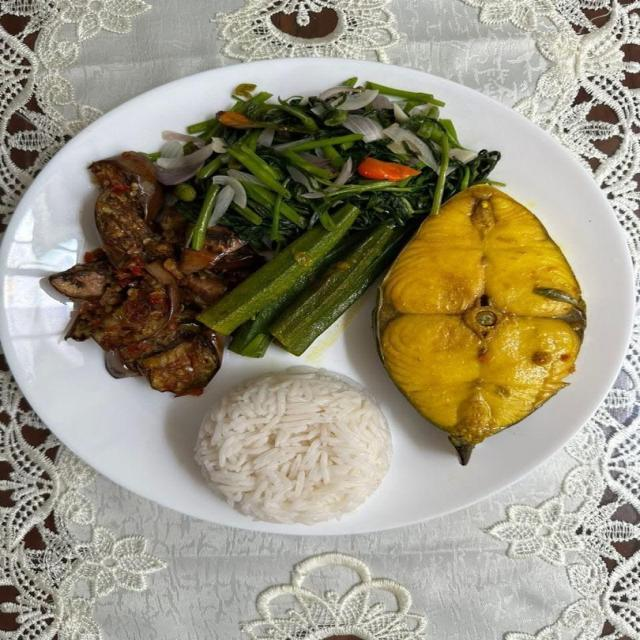Fish: (374, 188, 586, 456)
Plate: (0, 59, 632, 534)
Rice: (193, 370, 392, 524)
Vegetables: (48, 75, 497, 398)
